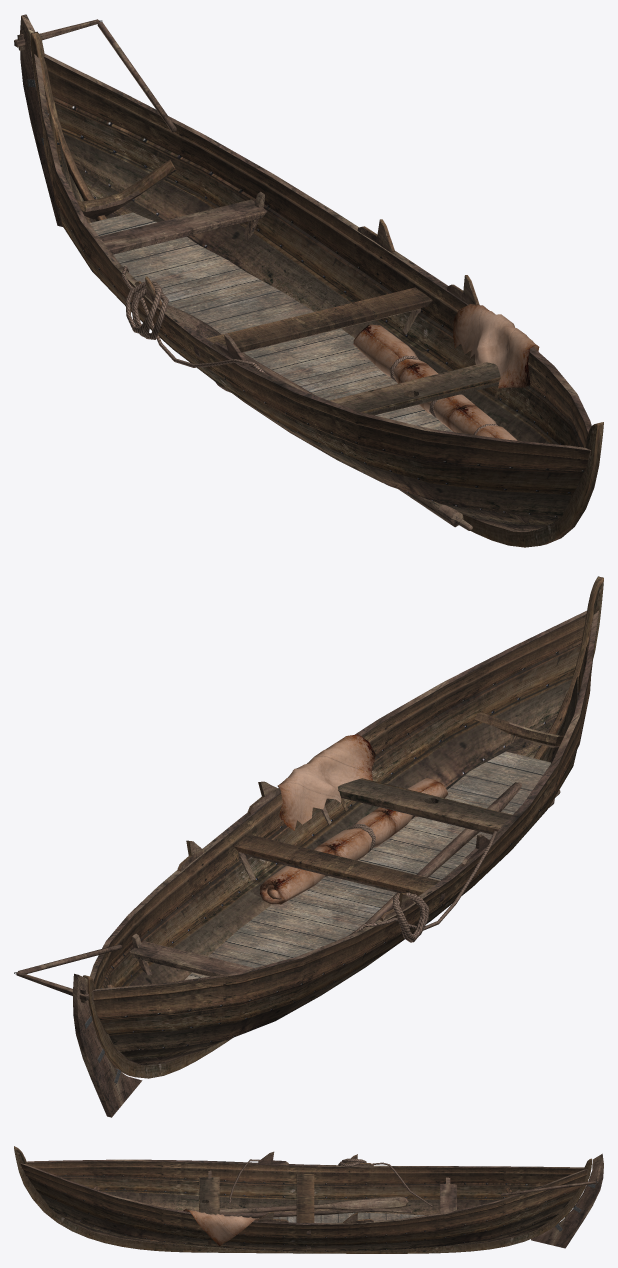
The model's file is Oselvar.fbx.
The picture shows the model from 3 angles, top to bottom: view 1: azimuth 30°, elevation 25°; view 2: azimuth 150°, elevation 25°; view 3: azimuth 270°, elevation 25°; orthographic projection. The views are drawn at different scales.
Visible parts, largest first — view 1: Oselvar1; view 2: Oselvar1; view 3: Oselvar1.
Part boxes in pixels (x1,y1,x2,y2): Oselvar1: (14,14,603,547); Oselvar1: (14,576,603,1117); Oselvar1: (14,1146,603,1253).
Size of the model in its own units: 210 by 161 by 811.
Materials: 5 (4 with a texture image).
